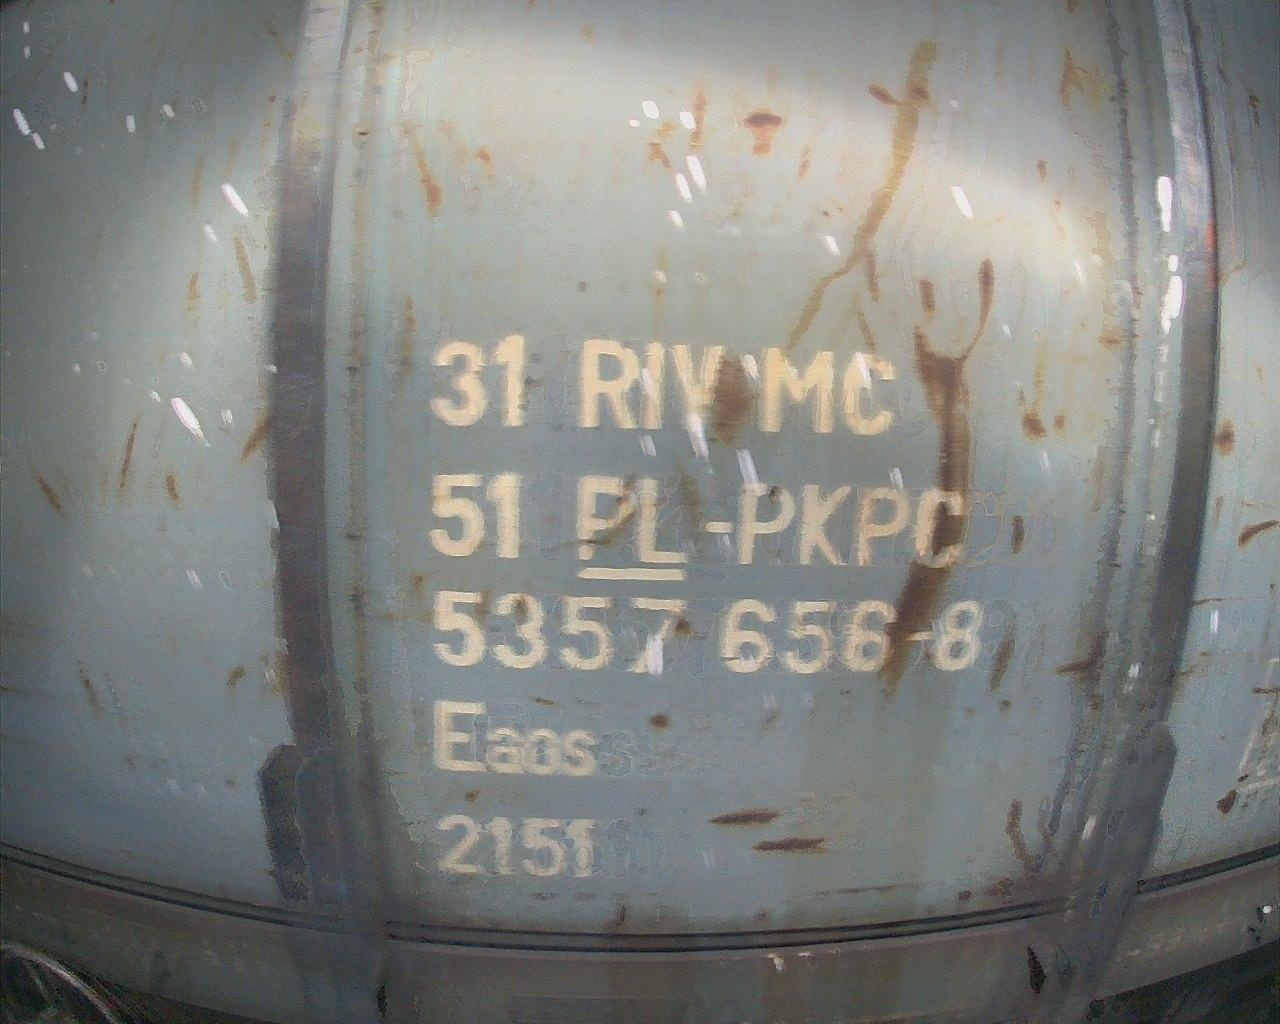UIC: (423, 329, 985, 882)
